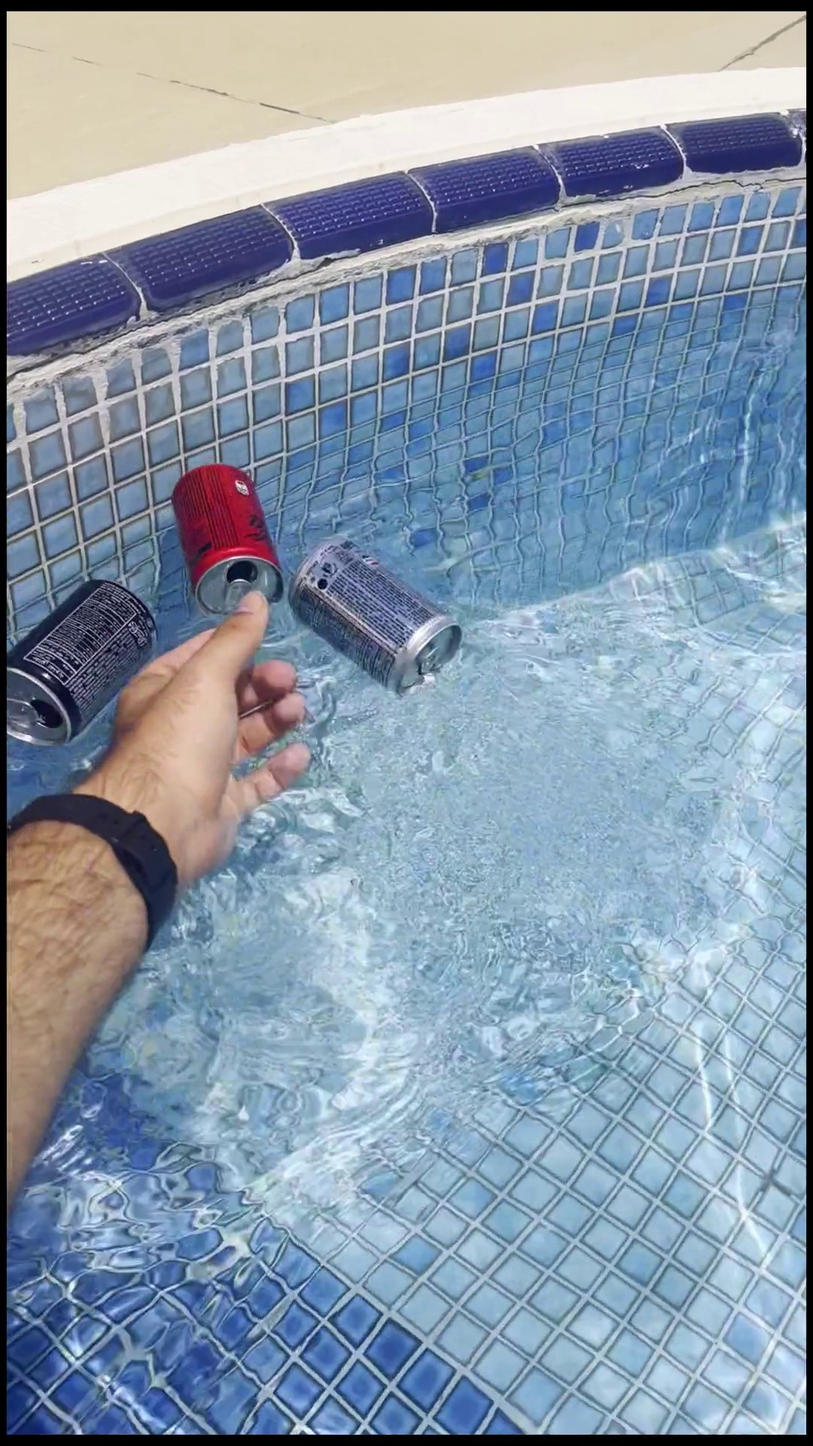debris: (8, 519, 162, 780), (283, 494, 461, 712), (162, 443, 283, 632)
